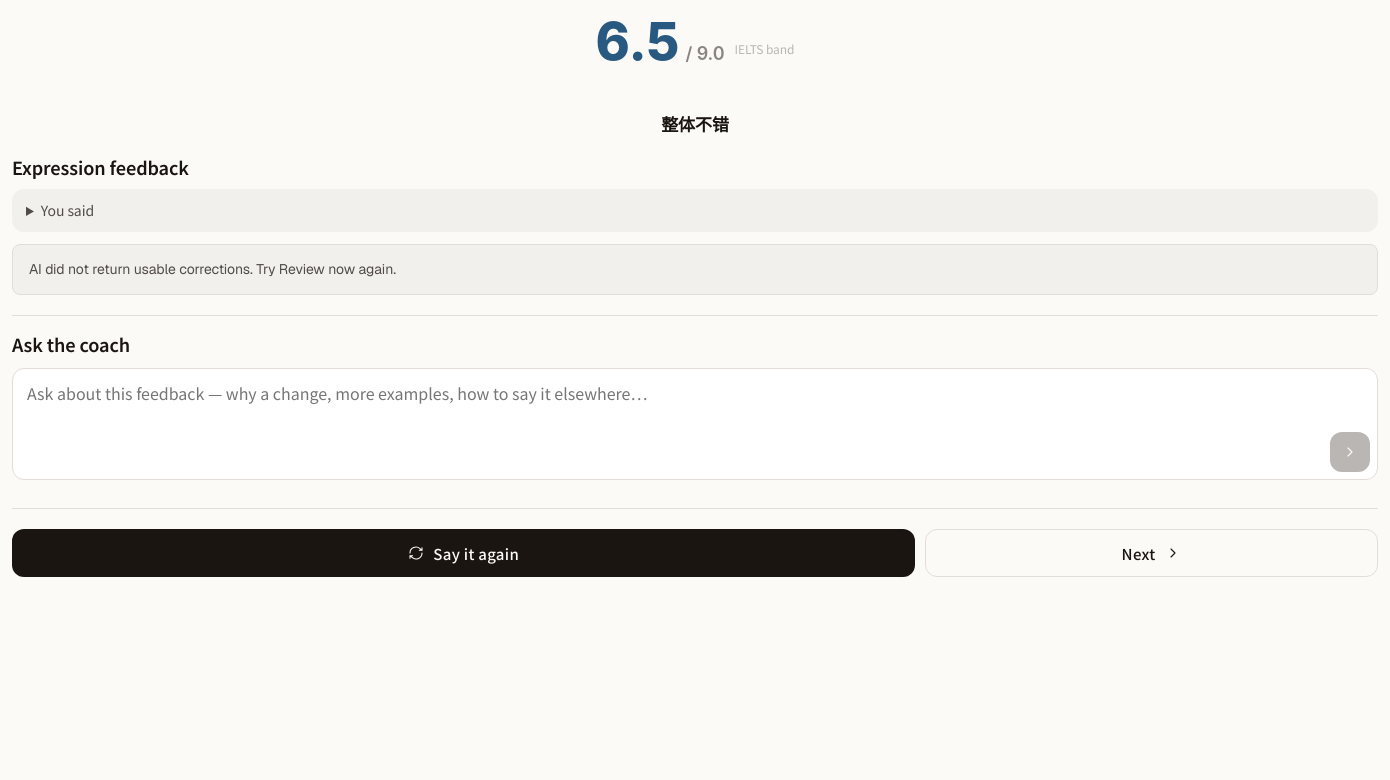
Test case: PracticeFeedbackView › 「你说的」默认折叠，展开后显示原话并渲染原声播放器
This screenshot has width=1390, height=780.
Click the heading "You said" at [67, 210], box [41,200,94,220]
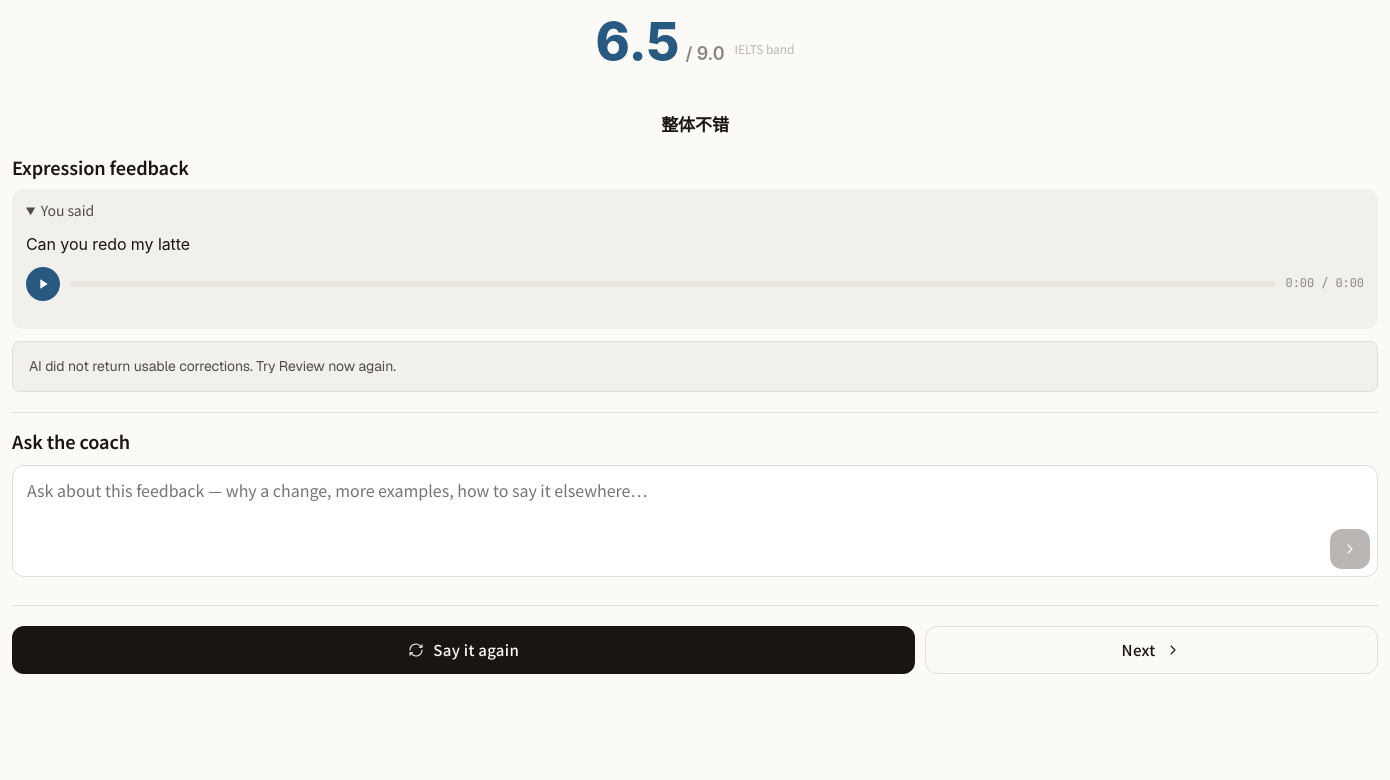
expect the text "Can you redo my latte" is shown: met, box [26,234,190,254]
expect the element with class "rec-player" is shown: met, box [26,267,1364,301]
